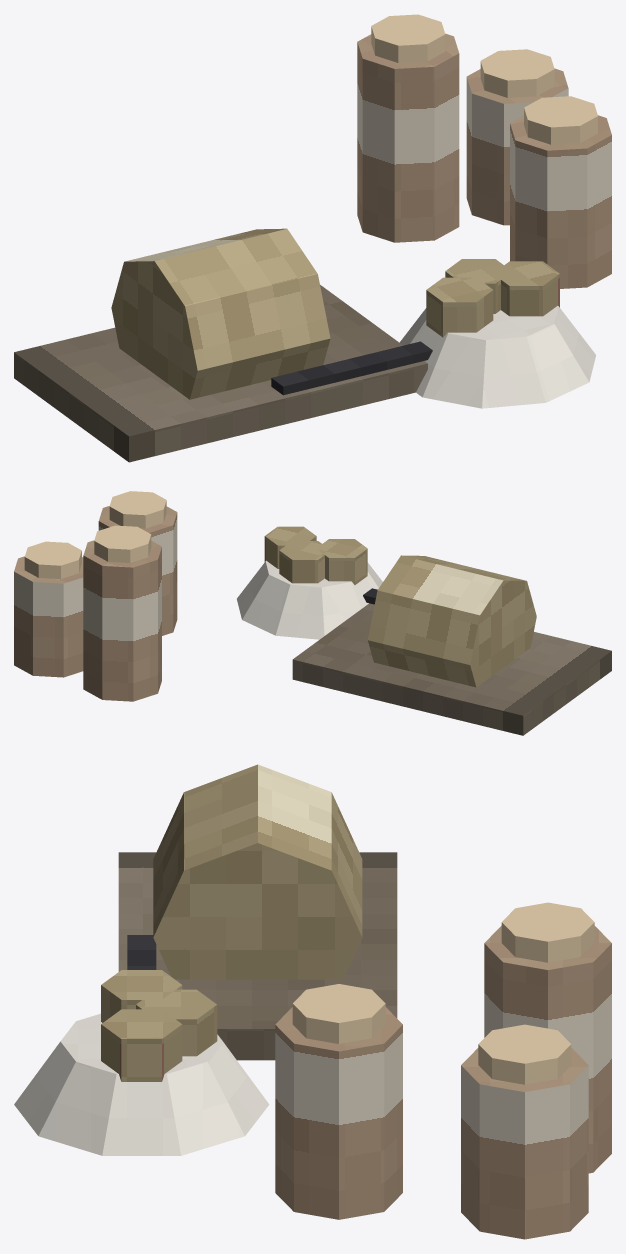
The model's file is kitchen_set.obj.
3 views of the same model, one above another, from view 1: azimuth 30°, elevation 25°; view 2: azimuth 150°, elevation 25°; view 3: azimuth 270°, elevation 25° (orthographic). The views are drawn at different scales.
Parts seen in each view (by area): view 1: kitchen_set; view 2: kitchen_set; view 3: kitchen_set.
Boxes of the visible parts, <box> form: kitchen_set: <box>14,14,611,462</box>; kitchen_set: <box>14,491,611,735</box>; kitchen_set: <box>14,764,611,1239</box>.
Bounding box in the file's own units: 0.725 × 0.24 × 0.515.
